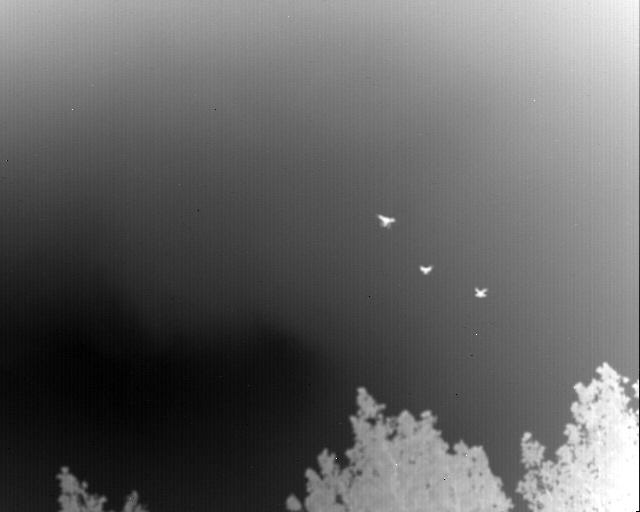plane: (378, 215, 395, 227), (419, 265, 433, 275), (474, 288, 487, 298)
